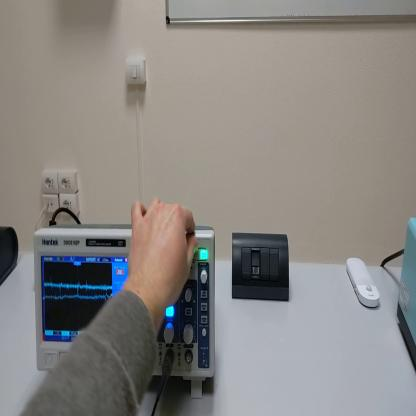hand: (127, 197, 196, 316)
oscilloscope: (34, 226, 216, 400)
socket: (3, 223, 19, 287)
welder station: (398, 218, 416, 384)
